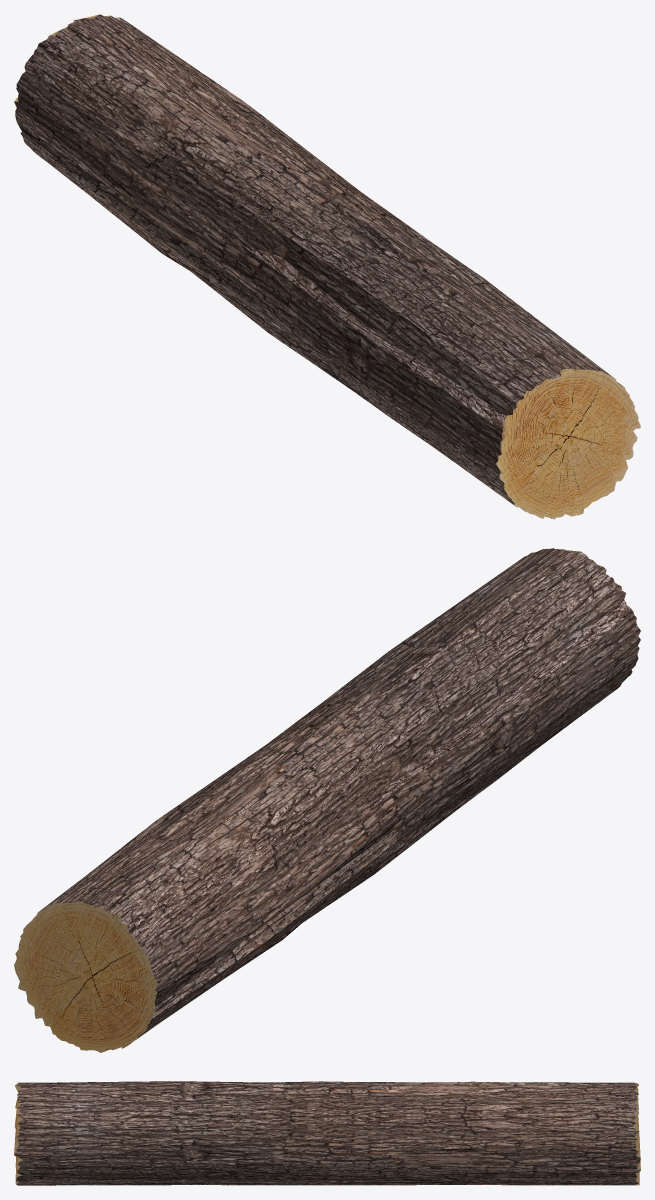
File: TreeLog.fbx
3 renders of one model, top to bottom at view 1: azimuth 30°, elevation 25°; view 2: azimuth 150°, elevation 25°; view 3: azimuth 270°, elevation 25°, orthographic. The views are drawn at different scales.
Parts seen in each view (by area): view 1: Cylinder; view 2: Cylinder; view 3: Cylinder.
Part boxes in pixels (bbox=[...]): Cylinder: bbox=[14, 14, 640, 519]; Cylinder: bbox=[14, 548, 640, 1052]; Cylinder: bbox=[14, 1081, 640, 1185].
Bounding box in the file's own units: 2.1 × 2.11 × 12.17.
